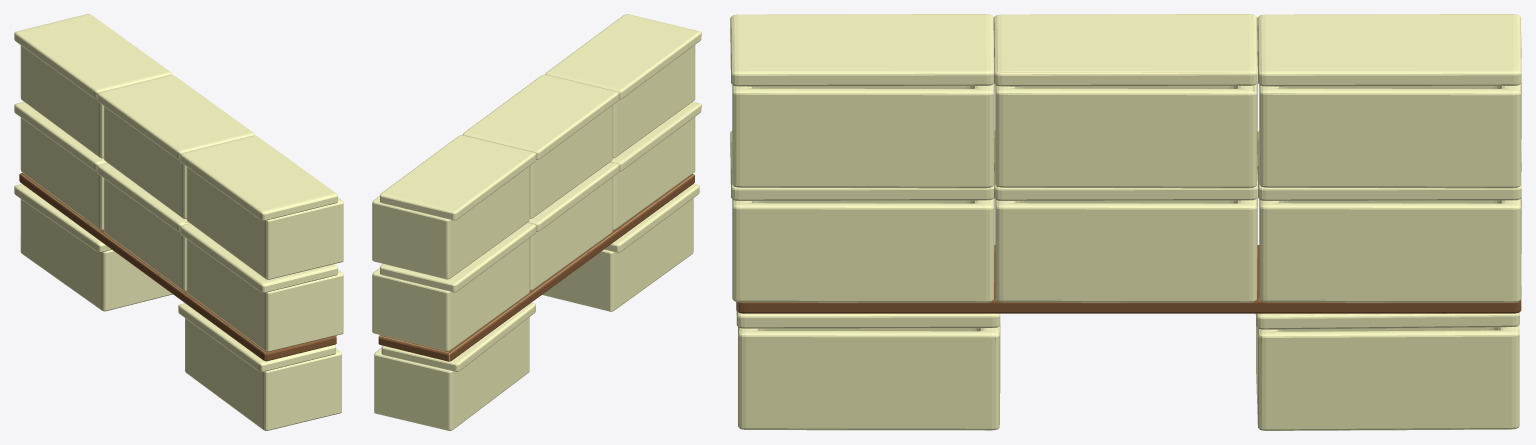
File: container slide.fbx
The picture shows the model from 3 angles, left to right: view 1: azimuth 30°, elevation 25°; view 2: azimuth 150°, elevation 25°; view 3: azimuth 270°, elevation 25°; orthographic projection. The views are drawn at different scales.
Visible parts, largest first — view 1: slide container; view 2: slide container; view 3: slide container.
Boxes of the visible parts, x1,y1,x2,y2 form: slide container: [14, 14, 343, 430]; slide container: [372, 14, 701, 430]; slide container: [730, 14, 1521, 430].
Bounding box in the file's own units: 237 × 581 × 1179.
1 material, 1 textured.
